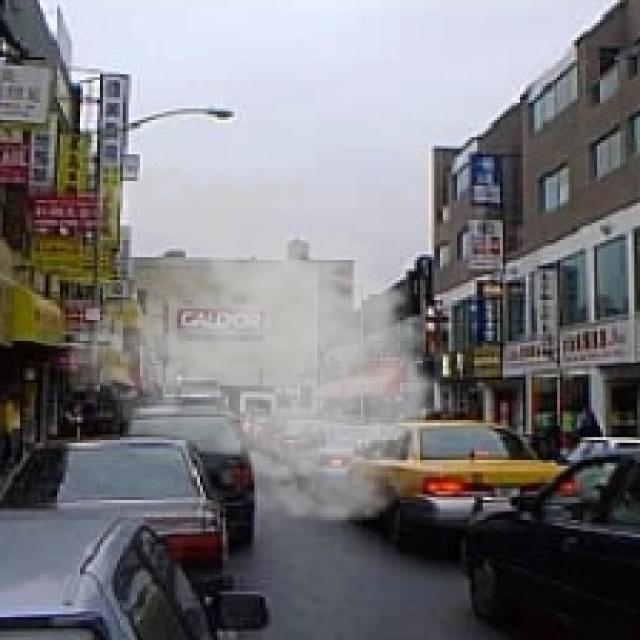Smoke: (66, 152, 460, 532)
